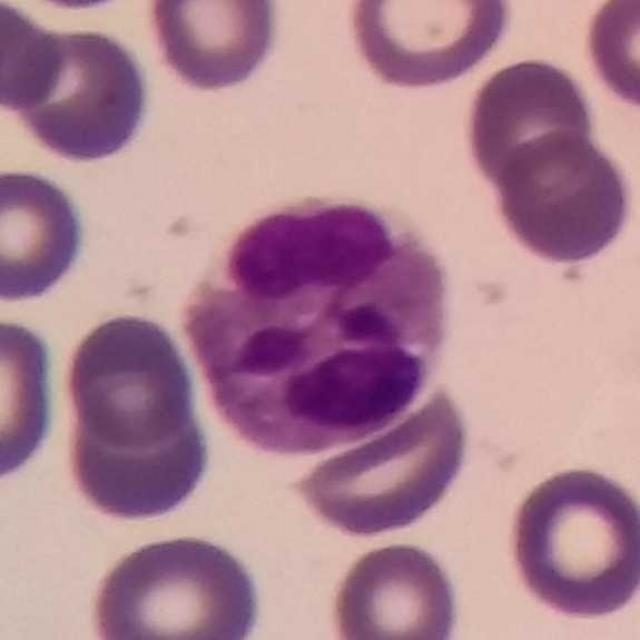Eosinophil: (174, 181, 462, 463)
RBC: (276, 381, 478, 542), (58, 372, 217, 526), (2, 19, 157, 166), (501, 461, 640, 623), (486, 128, 636, 268), (83, 527, 268, 640), (59, 307, 201, 453), (461, 52, 599, 195), (341, 0, 517, 92), (325, 537, 465, 640), (142, 0, 288, 95), (0, 163, 91, 308), (0, 309, 63, 494), (0, 1, 70, 114), (580, 0, 640, 115)
